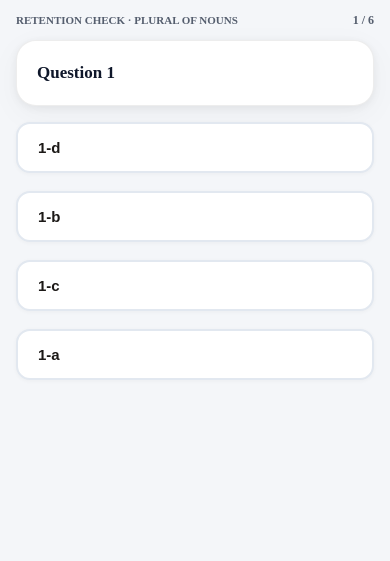
Scenario: 4. the review screen serves the queue and reports per lesson and part › reveals the explanation before letting the learner move on
Click the button with test id "retention-option" showing "1-d". click: click(49, 147)
box: [16,122,374,173]
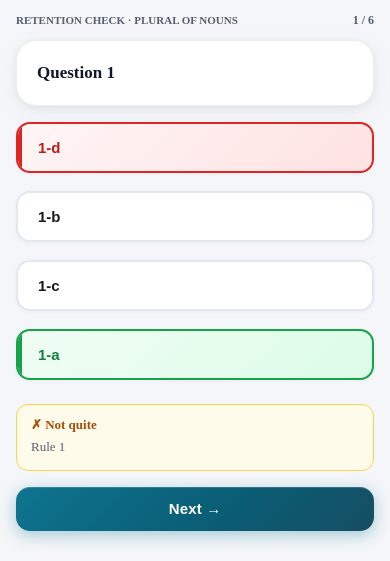
Expected: the element with test id "retention-feedback" is shown, [16,404,374,471]
Expected: the button with test id "retention-next" is shown, [16,487,374,531]
